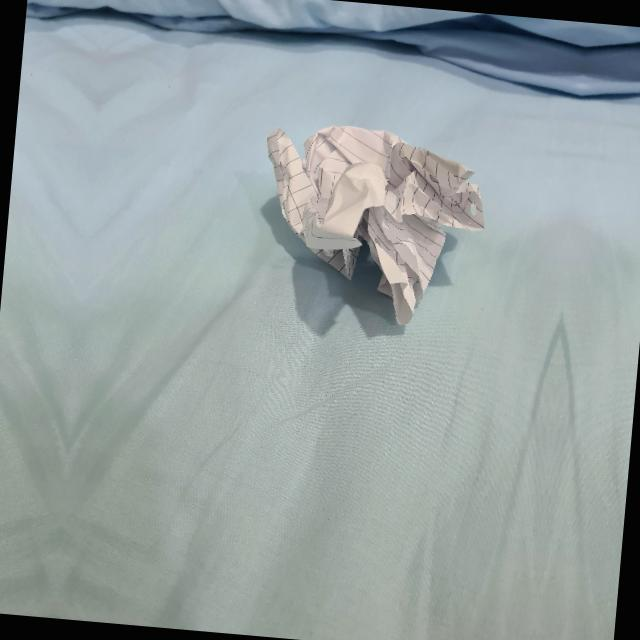paper: (244, 118, 482, 329)
